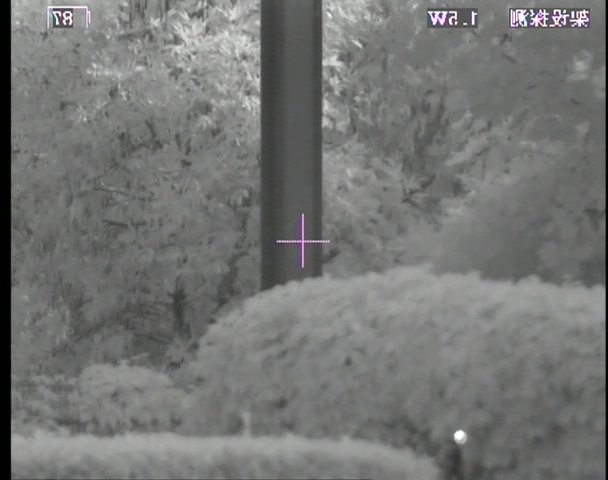my: (452, 429, 468, 444)
